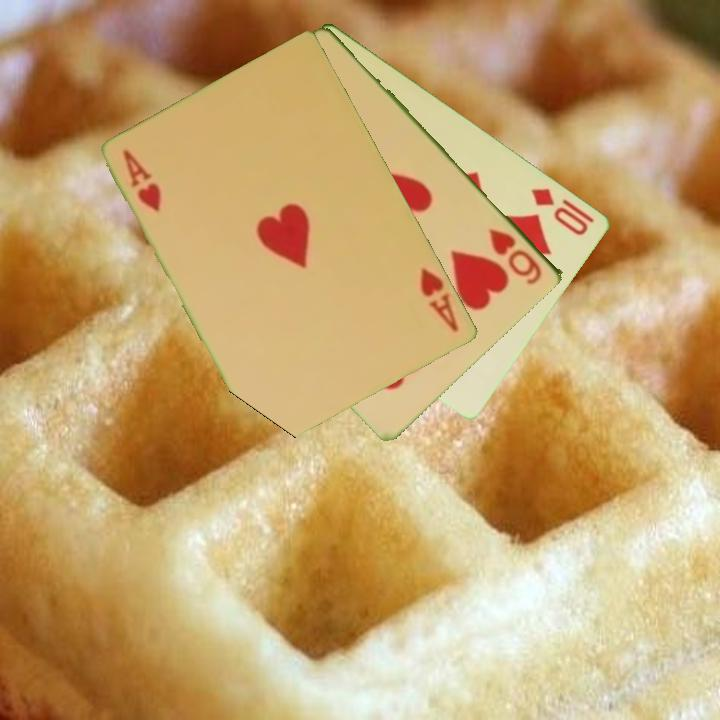10d: (528, 184, 598, 239)
6h: (485, 224, 546, 288)
Ah: (417, 264, 462, 335), (120, 145, 165, 215)
